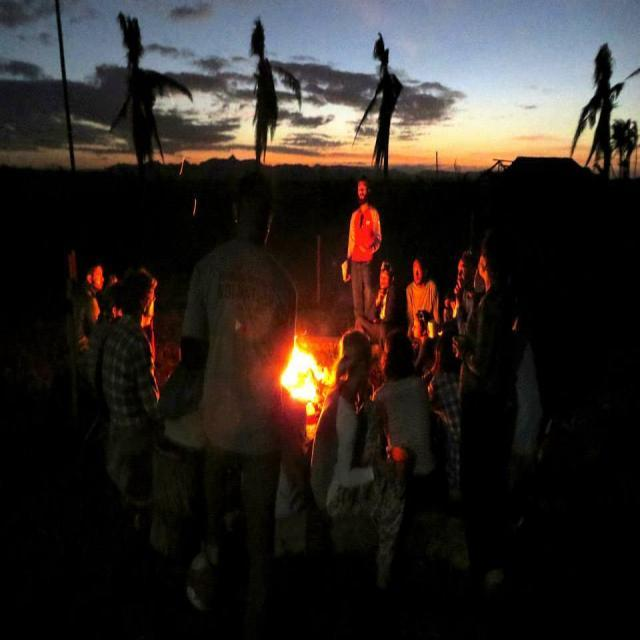Fire: (291, 346, 321, 408)
